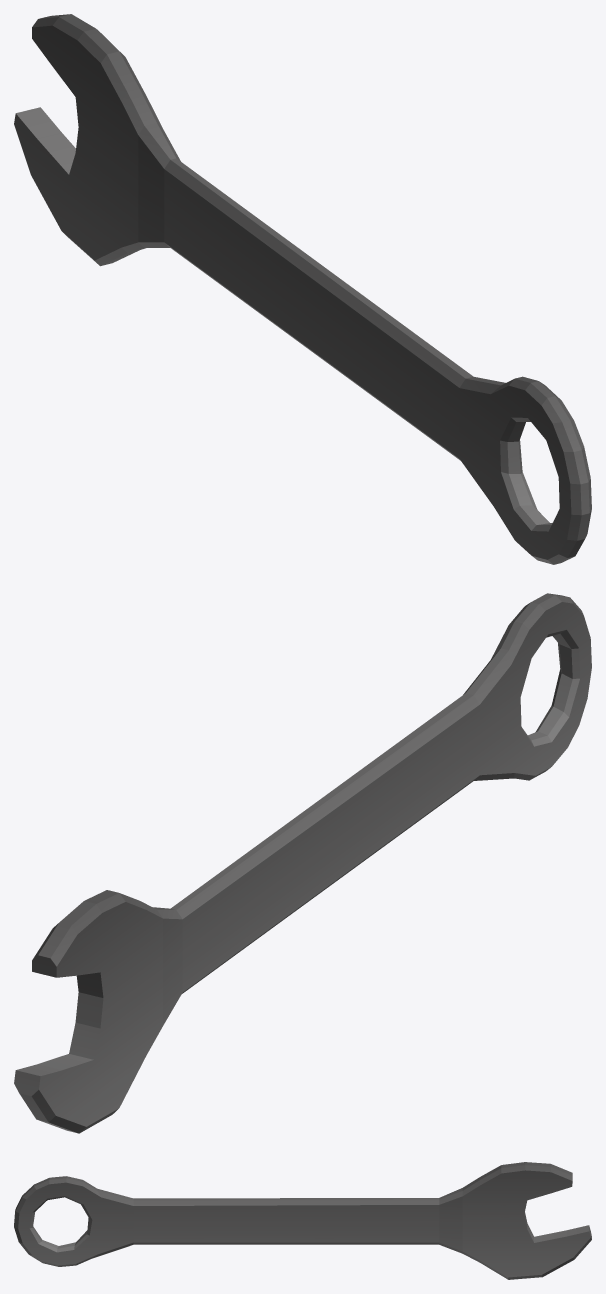
Rendered from spanar.fbx.
3 views of the same model, one above another, from view 1: azimuth 30°, elevation 25°; view 2: azimuth 150°, elevation 25°; view 3: azimuth 270°, elevation 25° (orthographic). The views are drawn at different scales.
Parts seen in each view (by area): view 1: Wrench.001_Tools_Mat_0; view 2: Wrench.001_Tools_Mat_0; view 3: Wrench.001_Tools_Mat_0.
Boxes of the visible parts, <box> form: Wrench.001_Tools_Mat_0: <box>14,14,591,564</box>; Wrench.001_Tools_Mat_0: <box>14,593,591,1133</box>; Wrench.001_Tools_Mat_0: <box>14,1162,591,1279</box>.
Bounding box in the file's own units: 46.82 × 400 × 1825.
Materials: 1 (1 with a texture image).
